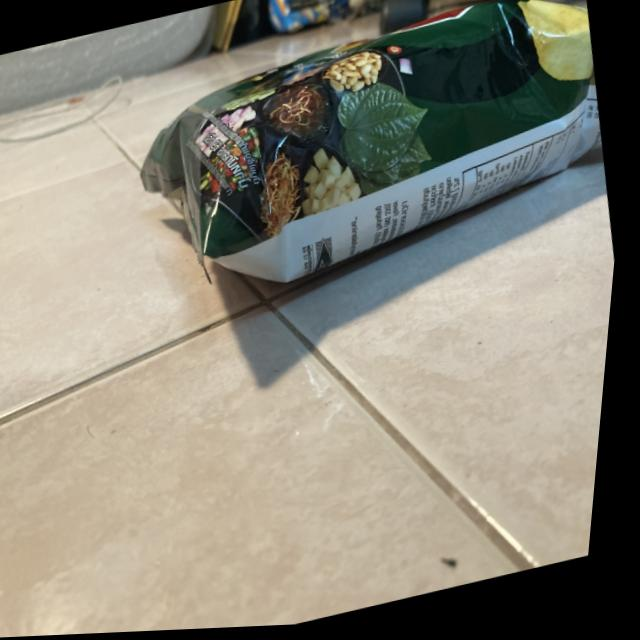Laygreen: (109, 0, 636, 351)
